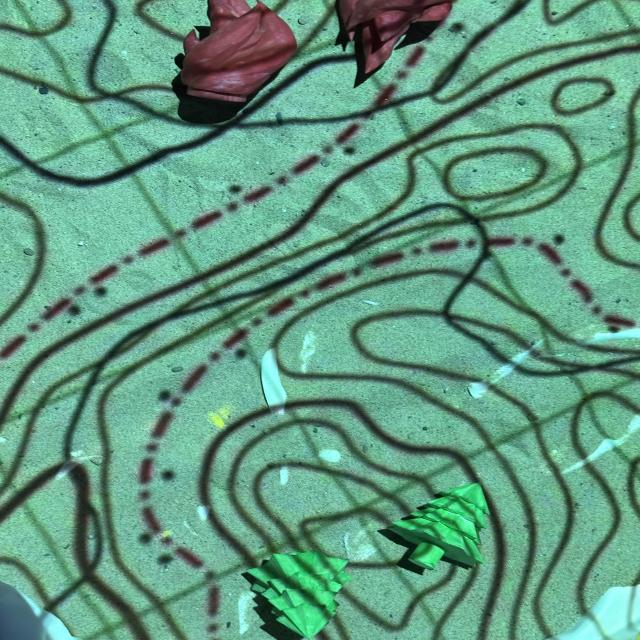fire: (176, 0, 297, 102), (338, 0, 455, 79)
tree: (241, 548, 353, 638), (381, 481, 491, 572)
